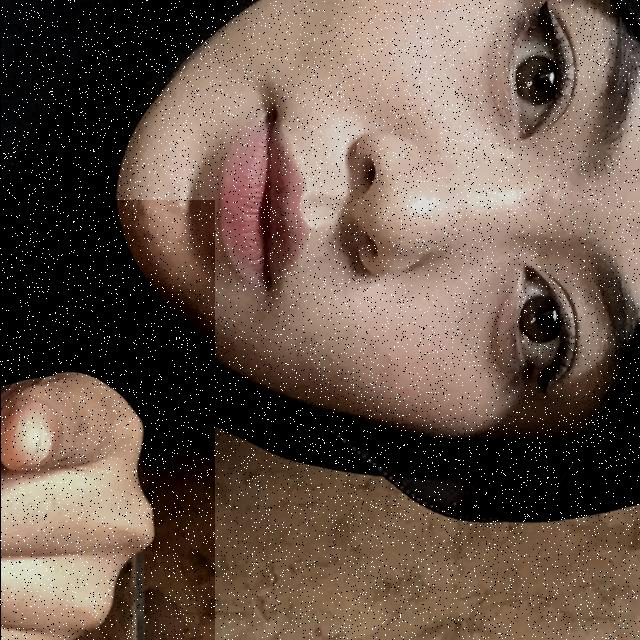kamu: (0, 200, 214, 640)
